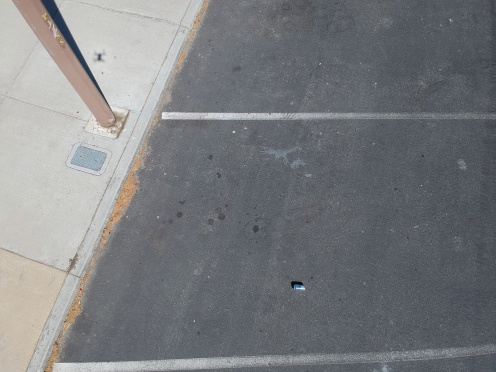can: (290, 280, 312, 294)
